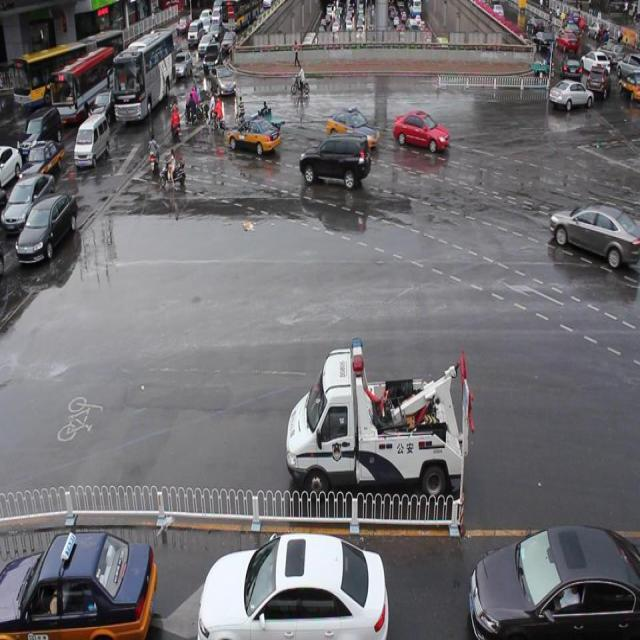BigCar: (14, 36, 121, 109), (104, 32, 179, 130), (44, 57, 116, 124)
car: (268, 325, 483, 541), (444, 493, 640, 640), (189, 507, 398, 640), (0, 519, 161, 640), (543, 177, 640, 289), (13, 184, 78, 274), (298, 131, 373, 201), (318, 96, 389, 164), (222, 106, 288, 174), (384, 100, 447, 170), (547, 73, 614, 124), (70, 106, 106, 170), (18, 141, 69, 180)
